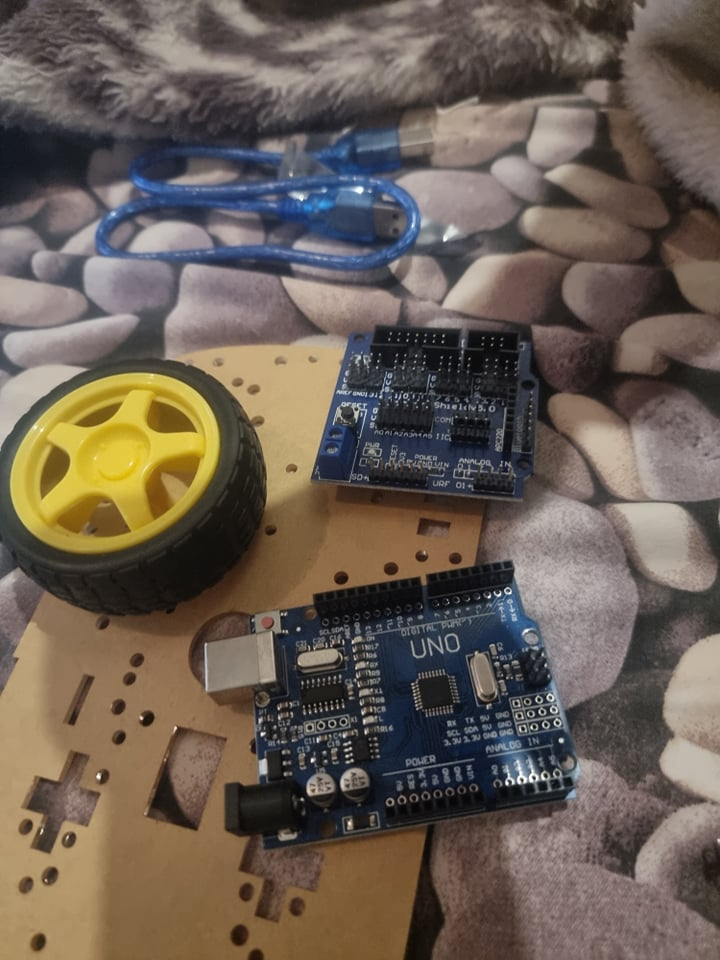5V EXPANSION: (307, 322, 541, 507)
UNO R3: (190, 557, 581, 850)
